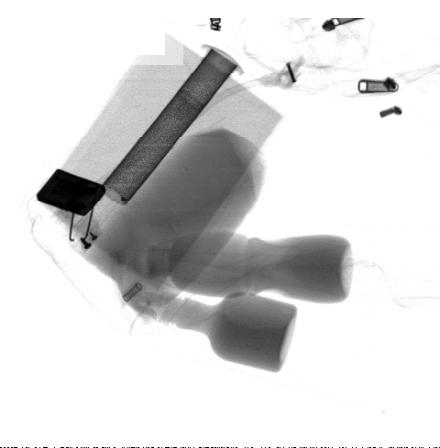Lighter: (36, 168, 106, 218)
